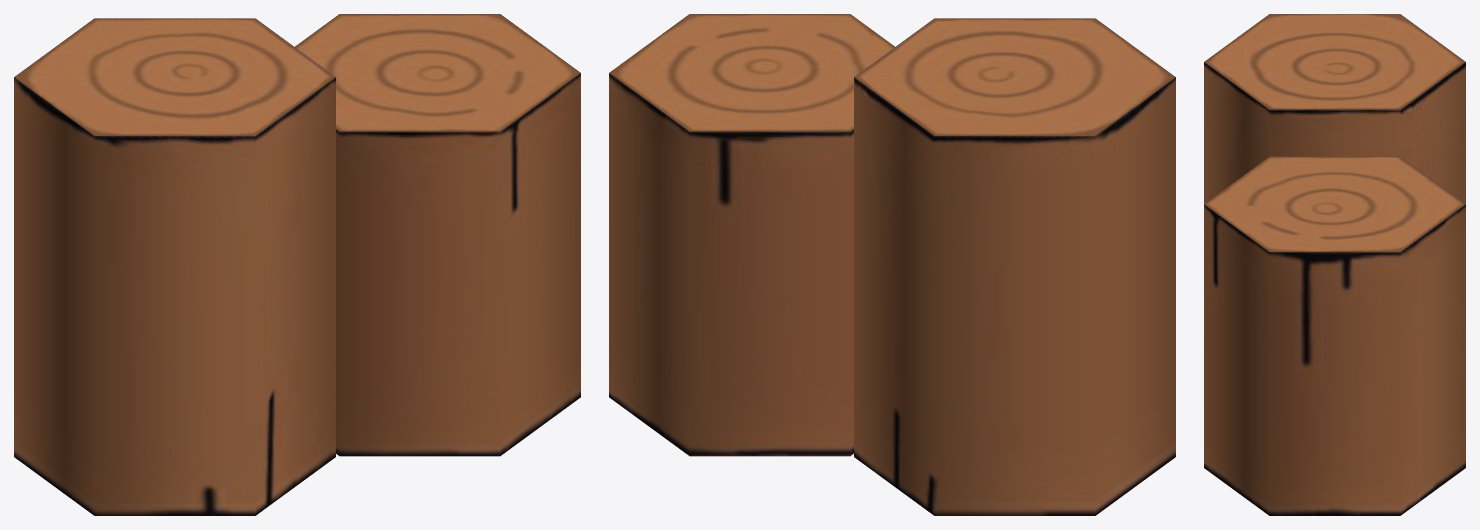
The model's file is muzhalan_001.fbx.
3 views of the same model, side by side, from view 1: azimuth 30°, elevation 25°; view 2: azimuth 150°, elevation 25°; view 3: azimuth 270°, elevation 25° (orthographic). The views are drawn at different scales.
Parts seen in each view (by area): view 1: muzhalan_001; view 2: muzhalan_001; view 3: muzhalan_001.
Boxes of the visible parts, box(x1,y1,x2,y2) form: muzhalan_001: box(14, 14, 580, 515); muzhalan_001: box(609, 14, 1175, 515); muzhalan_001: box(1204, 14, 1465, 515).
Size of the model in its own units: 22.71 by 16.96 by 13.02.
